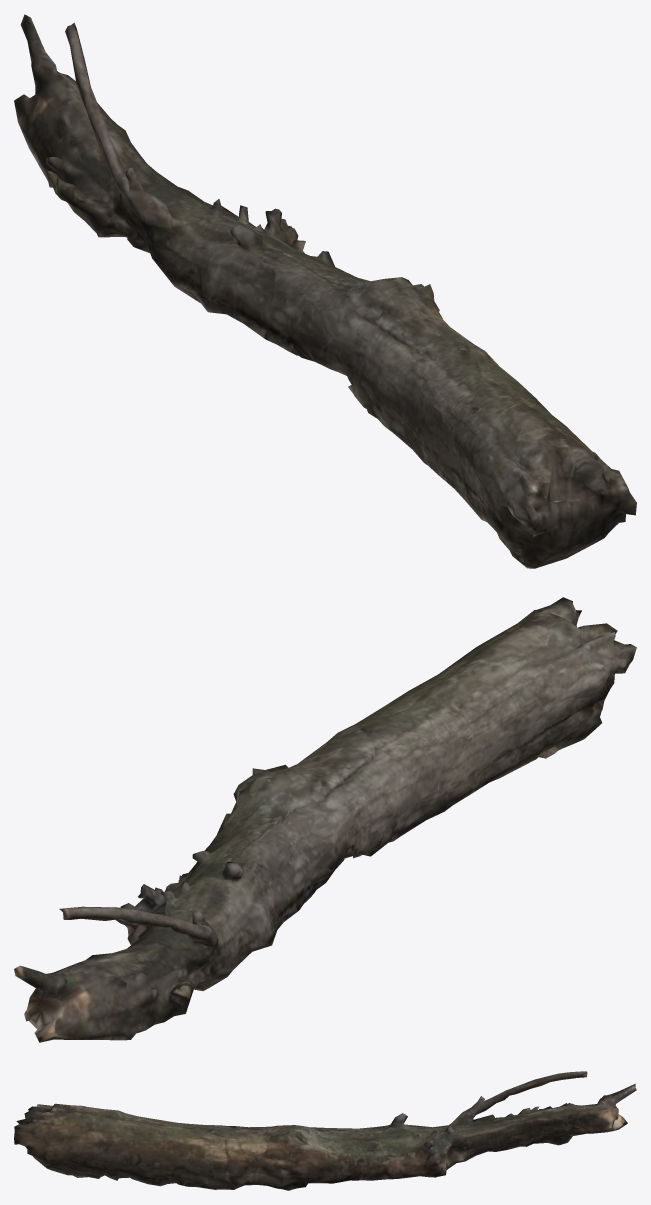
File: branch_b.glb
3 renders of one model, top to bottom at view 1: azimuth 30°, elevation 25°; view 2: azimuth 150°, elevation 25°; view 3: azimuth 270°, elevation 25°, orthographic. The views are drawn at different scales.
Visible parts, largest first — view 1: Forest_branch_b; view 2: Forest_branch_b; view 3: Forest_branch_b.
Part boxes in pixels (box(x1,y1,x2,y2)): Forest_branch_b: box(14, 14, 636, 568); Forest_branch_b: box(14, 597, 636, 1042); Forest_branch_b: box(14, 1071, 636, 1190).
Bounding box in the file's own units: 0.1294 × 0.1429 × 0.7763.
Materials: 1 (1 with a texture image).
